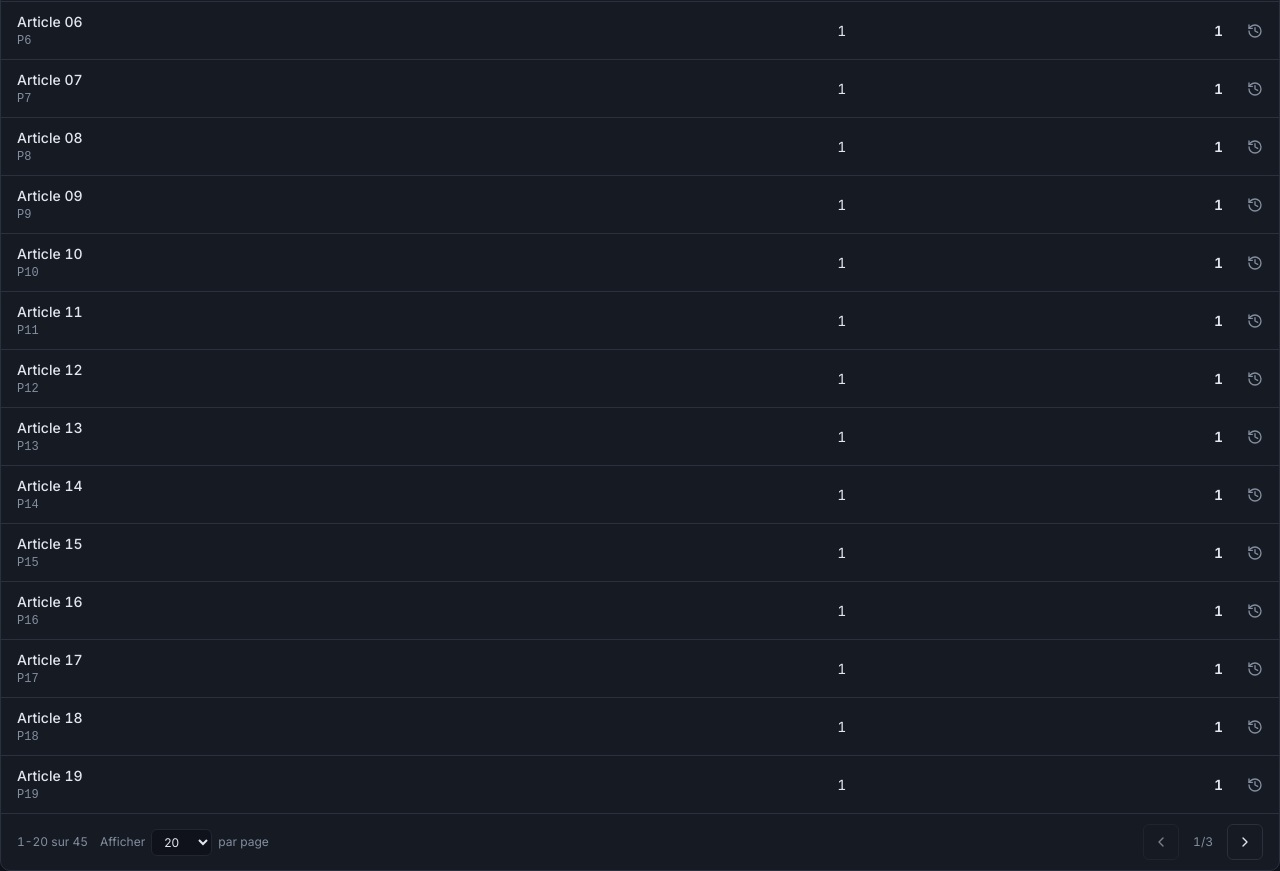
Test: stock levels › draws one page at a time, with a page size that is remembered
Later steps or results of the test are not shown.
(page scrolled)
expect the text "Article 20" is not shown: met
expect the text "1-20 sur 45" is shown: met, box [17,834,88,850]
Click the button named "Page suivante" at (1245,842), box [1227,824,1263,860]
(page scrolled)
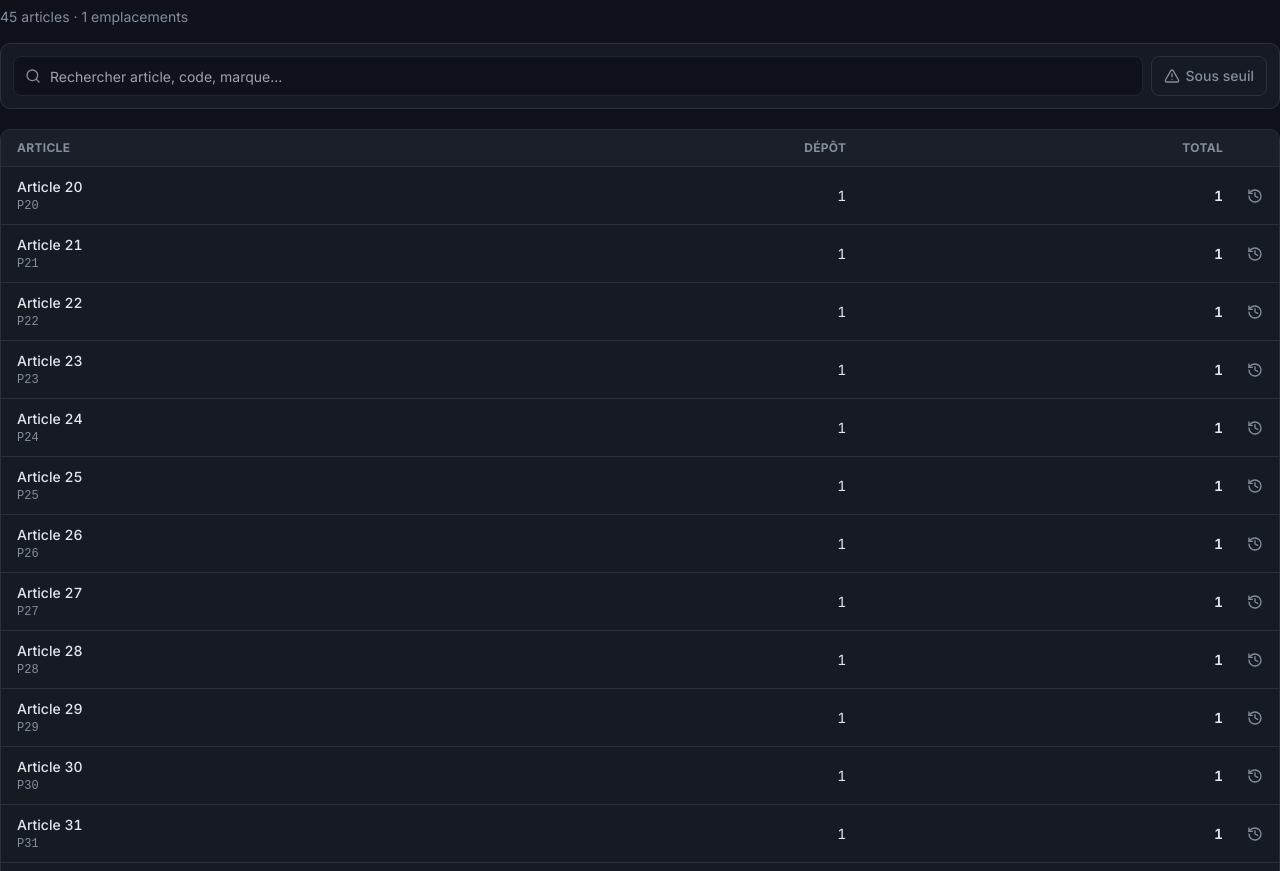
expect the text "Article 20" is shown: met, box [17,177,83,197]
// Search applies to every product, and goes back to page 1.
Type "Article 03" into the field named "Rechercher un article" at (578,76), box [13,56,1143,96]
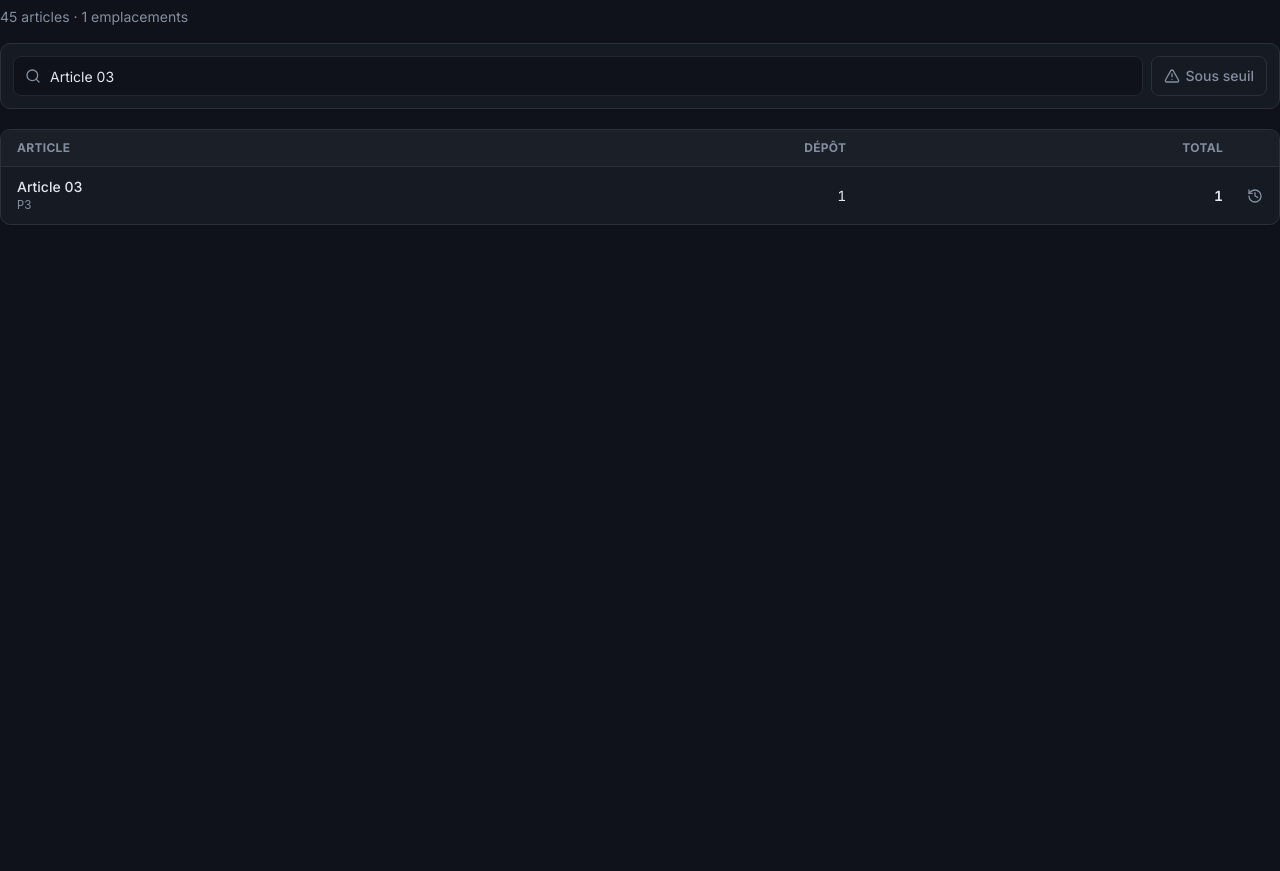
expect the text "Article 03" is shown: met, box [17,177,83,197]
Clear the field named "Rechercher un article" at (578,76), box [13,56,1143,96]
(page scrolled)
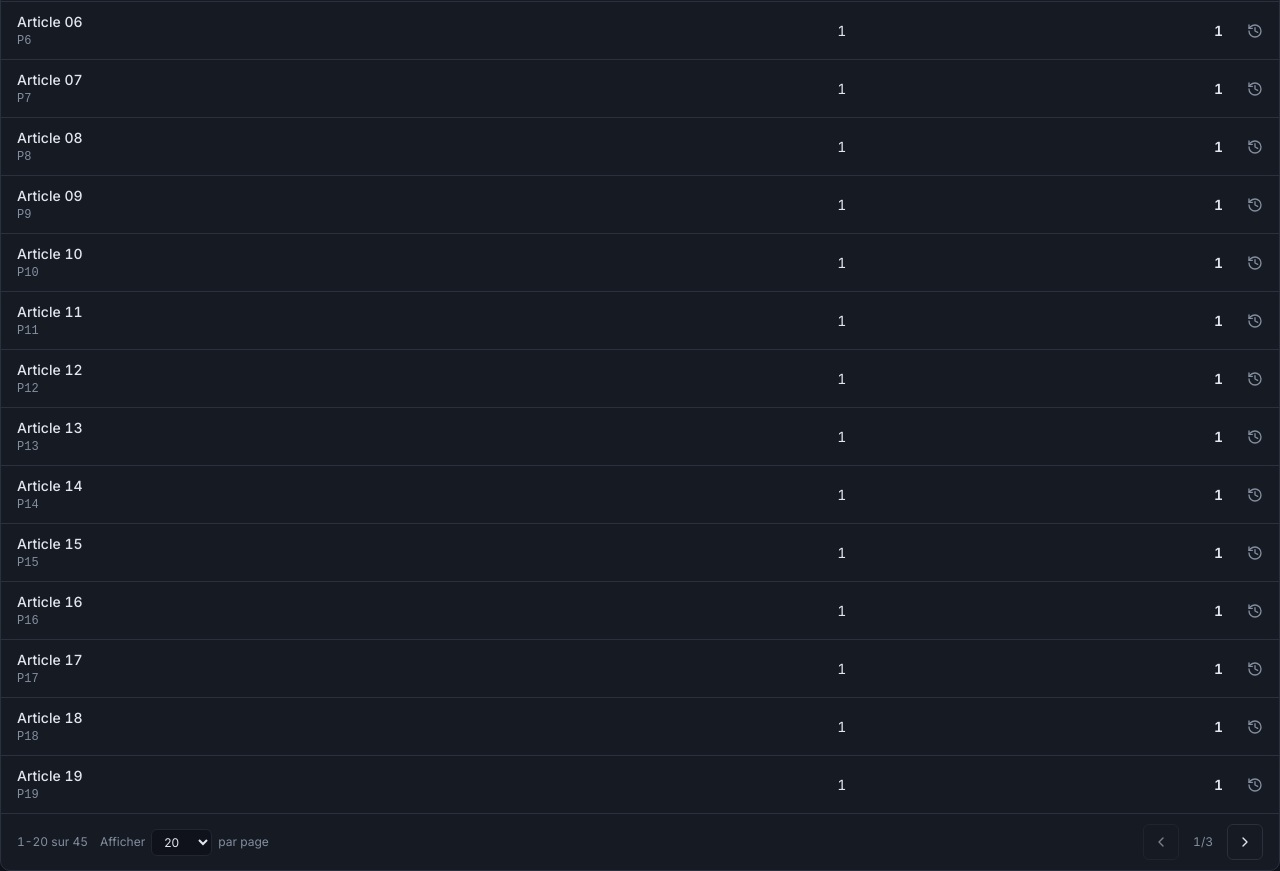
Select "50" in the dropdown named "Articles par page" at (182,842), box [151,828,212,856]
(page scrolled)
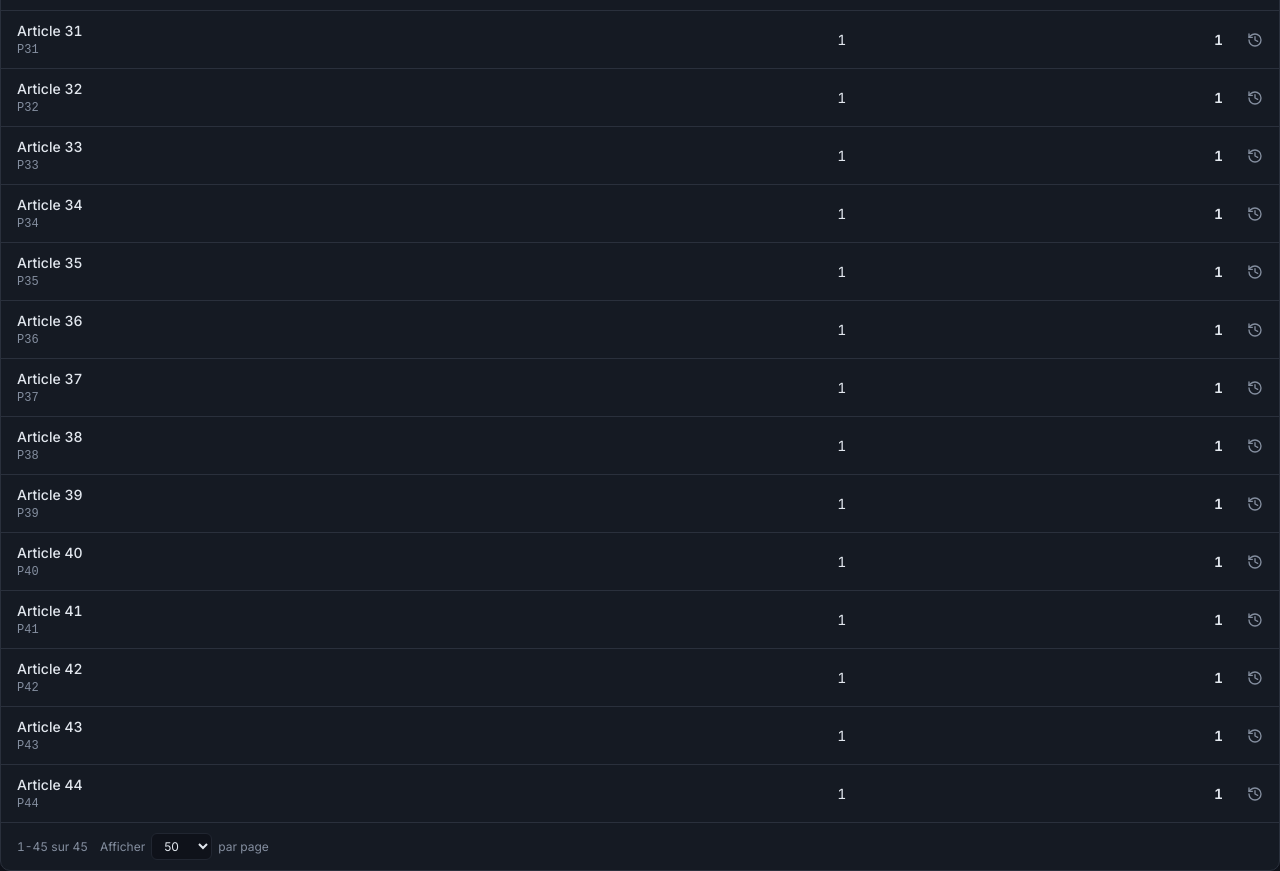
expect the text "Article 44" is shown: met, box [17,775,83,795]
